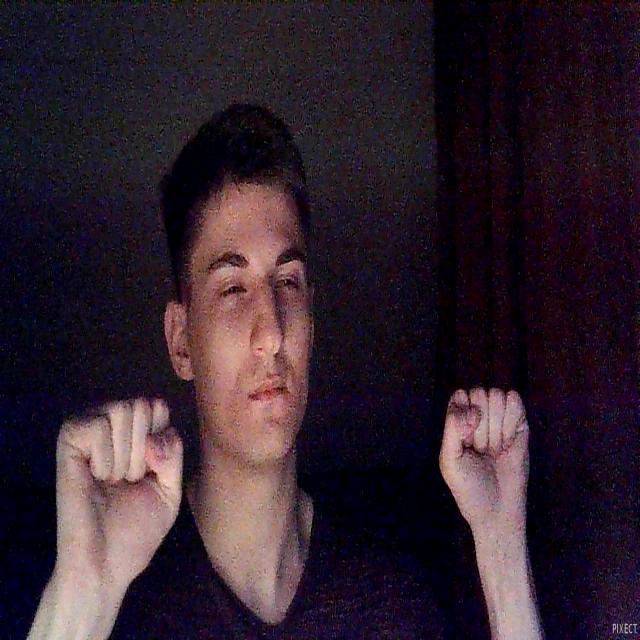Eyeclosed: (217, 279, 246, 305), (274, 271, 298, 294)
